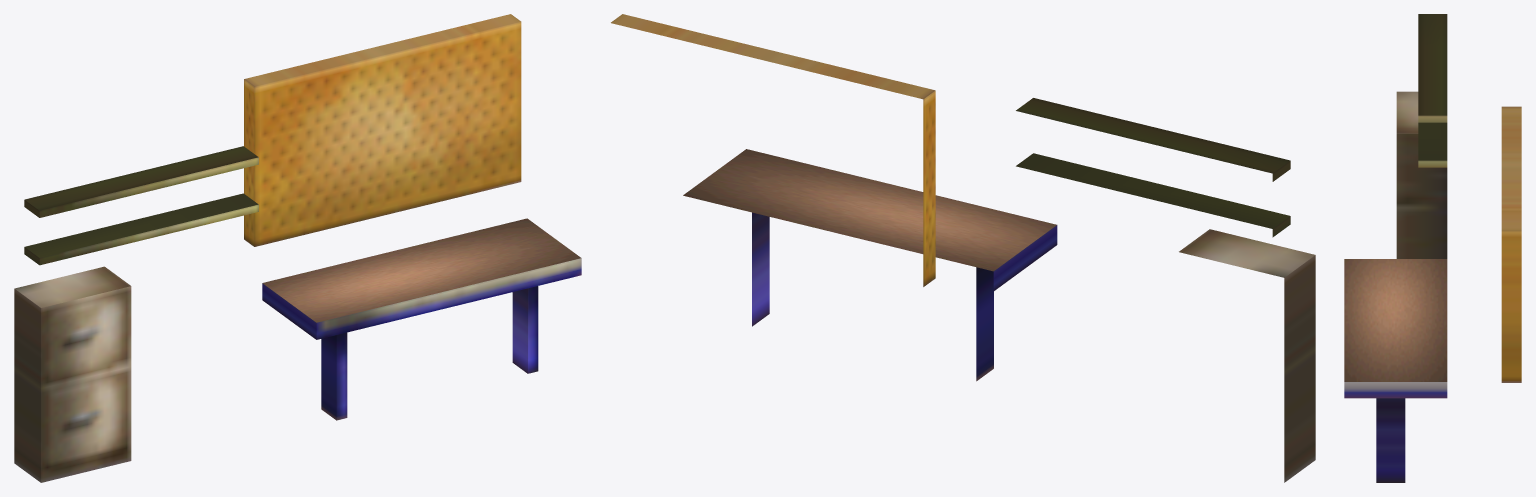
The model's file is Garage1.glb.
3 renders of one model, left to right at view 1: azimuth 30°, elevation 25°; view 2: azimuth 150°, elevation 25°; view 3: azimuth 270°, elevation 25°, orthographic. The views are drawn at different scales.
Visible parts, largest first — view 1: Garage1; view 2: Garage1; view 3: Garage1.
Part boxes in pixels (bbox=[...]): Garage1: bbox=[14, 14, 581, 482]; Garage1: bbox=[611, 14, 1315, 482]; Garage1: bbox=[1344, 14, 1521, 482].
Bounding box in the file's own units: 1146 × 593 × 346.
Materials: 2 (2 with a texture image).
